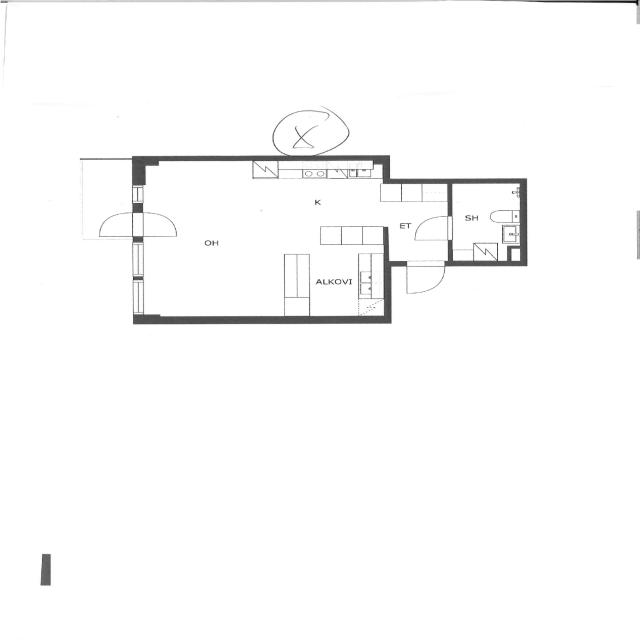door: (91, 212, 162, 238), (400, 262, 449, 296), (122, 211, 182, 237), (409, 213, 457, 244)
window: (127, 244, 142, 316), (127, 182, 147, 205)
zone: (138, 159, 385, 320), (449, 182, 522, 264)
